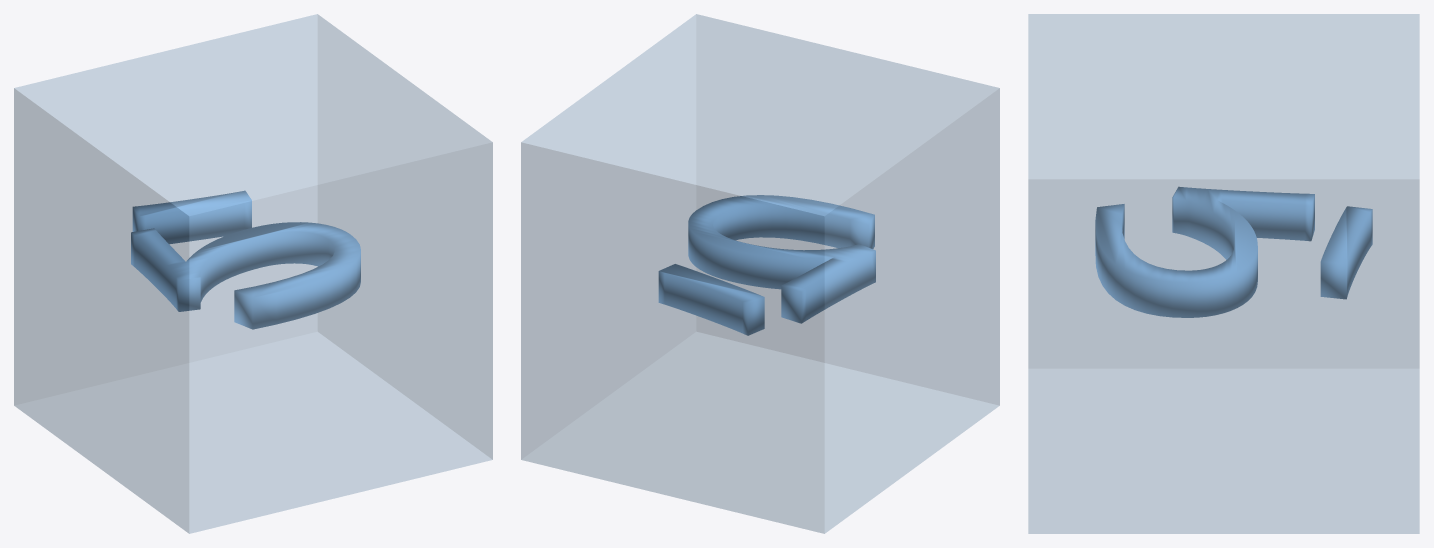
The model's file is Title_Ice9.obj.
3 renders of one model, left to right at view 1: azimuth 30°, elevation 25°; view 2: azimuth 150°, elevation 25°; view 3: azimuth 270°, elevation 25°, orthographic. The views are drawn at different scales.
Parts seen in each view (by area): view 1: 9.ら; view 2: 9.ら; view 3: 9.ら.
Part boxes in pixels (x1,y1,x2,y2): 9.ら: [14, 14, 492, 533]; 9.ら: [521, 14, 999, 533]; 9.ら: [1028, 14, 1419, 533].
Bounding box in the file's own units: 2 × 2 × 2.
Materials: 1 (1 with a texture image).
